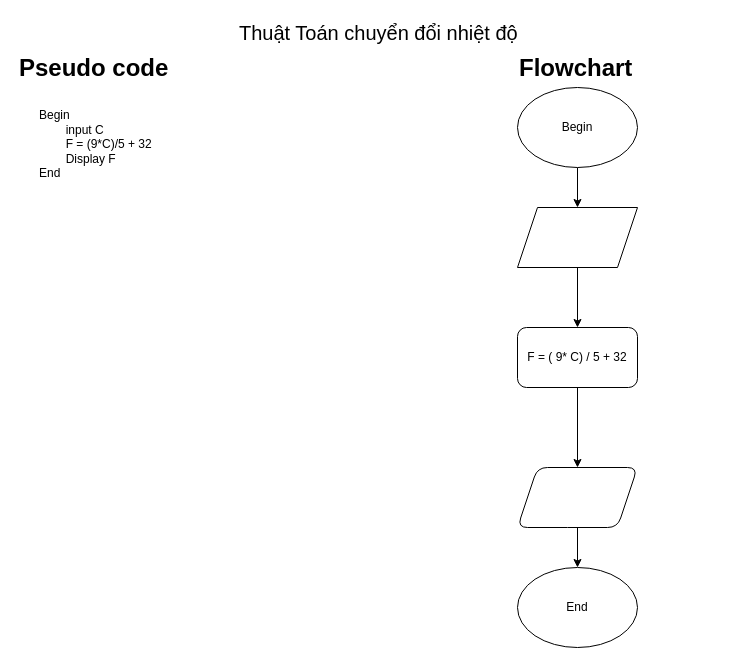
The diagram is 734 pixels wide and 665 high, and some of its shapes have lost their labels. The centre of each missing label's shape, as x and y in pixels:
Display F: point 577,497
input C: point 577,237
